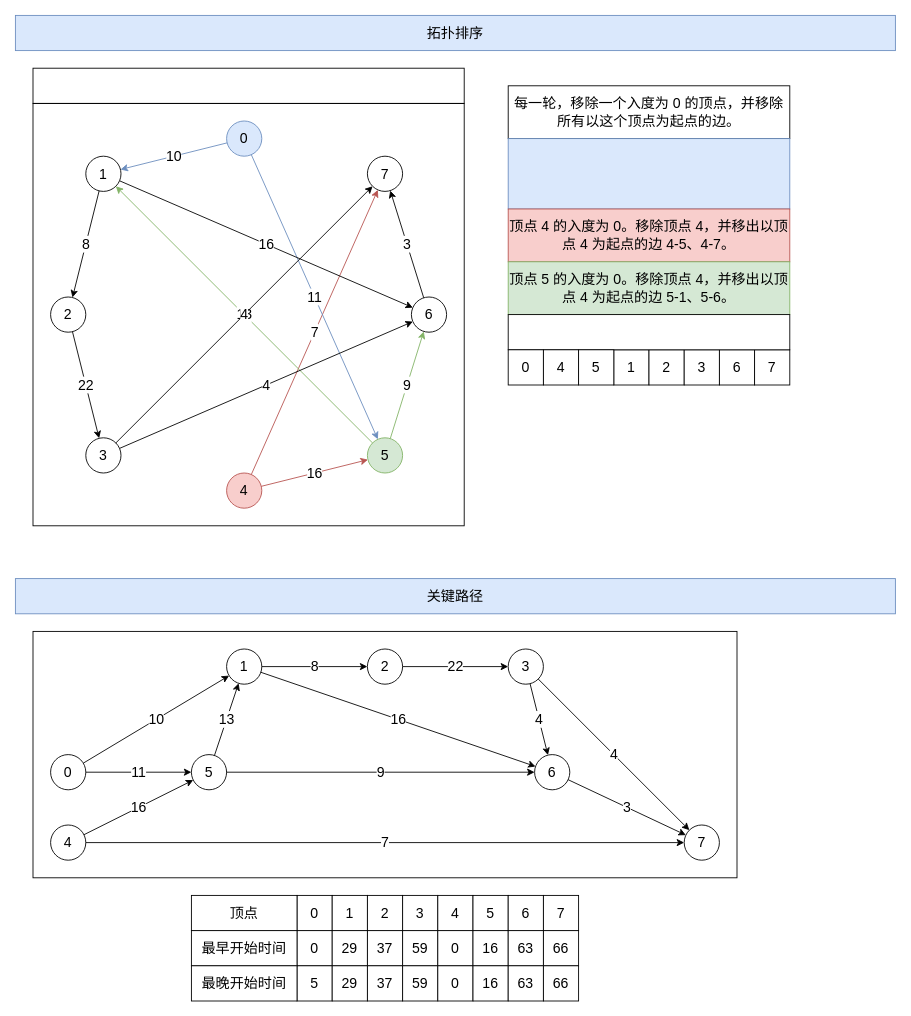
This 911x1016 diagram has some shape labels left out. The box of each missing label's shape, as (x1, y1, x2, y2) in pixels:
以此类推，最终可以得到的拓扑排序的序列: (507, 314, 790, 350)
有向图: (32, 67, 464, 103)
顶点 0 和顶点 4 的入度为 0，移除哪一个都可以，这里移除顶点 0。并移出以顶点 0 为起点的边 0-1、0-5。: (507, 138, 790, 209)
